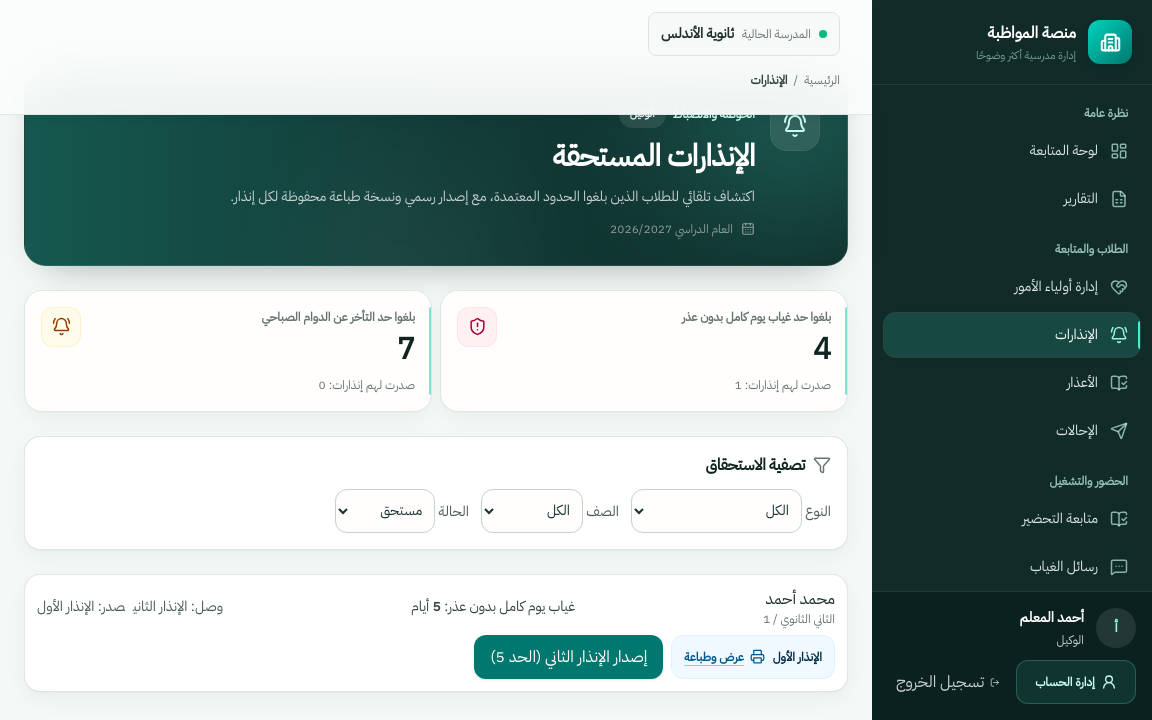
Test case: warnings dashboard (Phase 11) › issues a warning with only student/type/level in the payload
This screenshot has width=1152, height=720.
(page scrolled)
Step 1. Click the button with test id "issue-5-UNEXCUSED_FULL_DAY_ABSENCE-LEVEL_2" → point(569, 656), box x1=474 y1=634 x2=663 y2=678
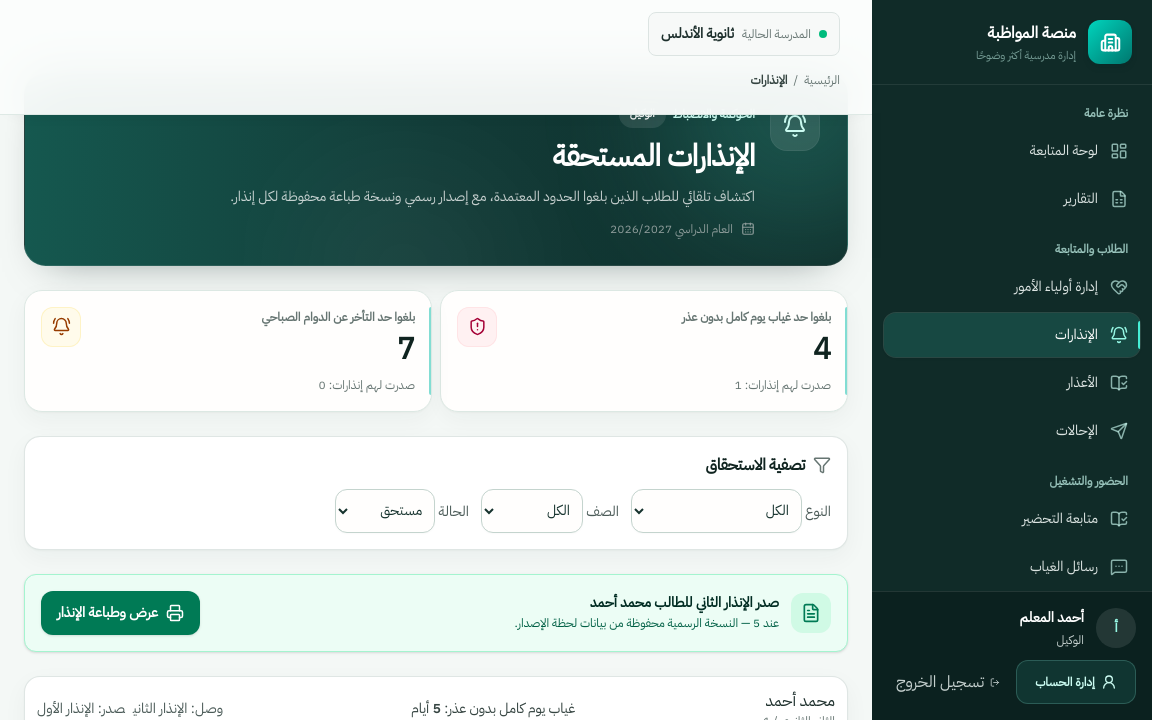
Check: the message with test id "issue-result" shows "الإنذار الثاني", box x1=696 y1=592 x2=753 y2=612
